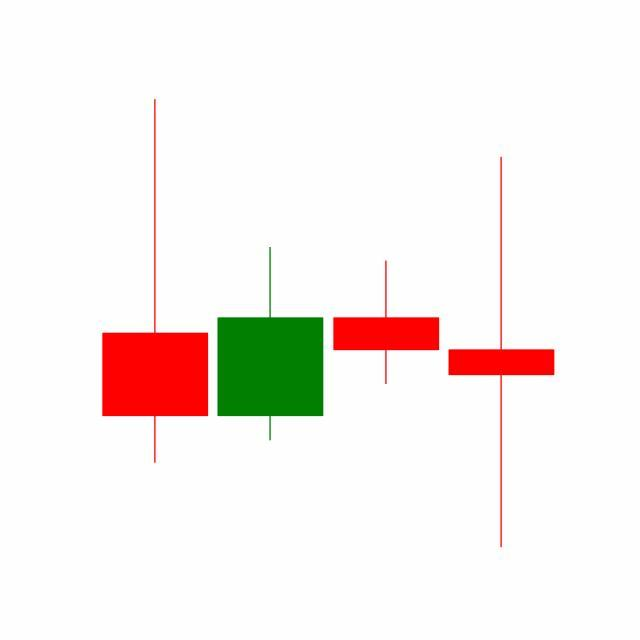Spinning Top: (444, 153, 560, 553)
